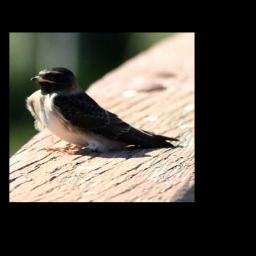Swallow: (25, 66, 182, 156)
